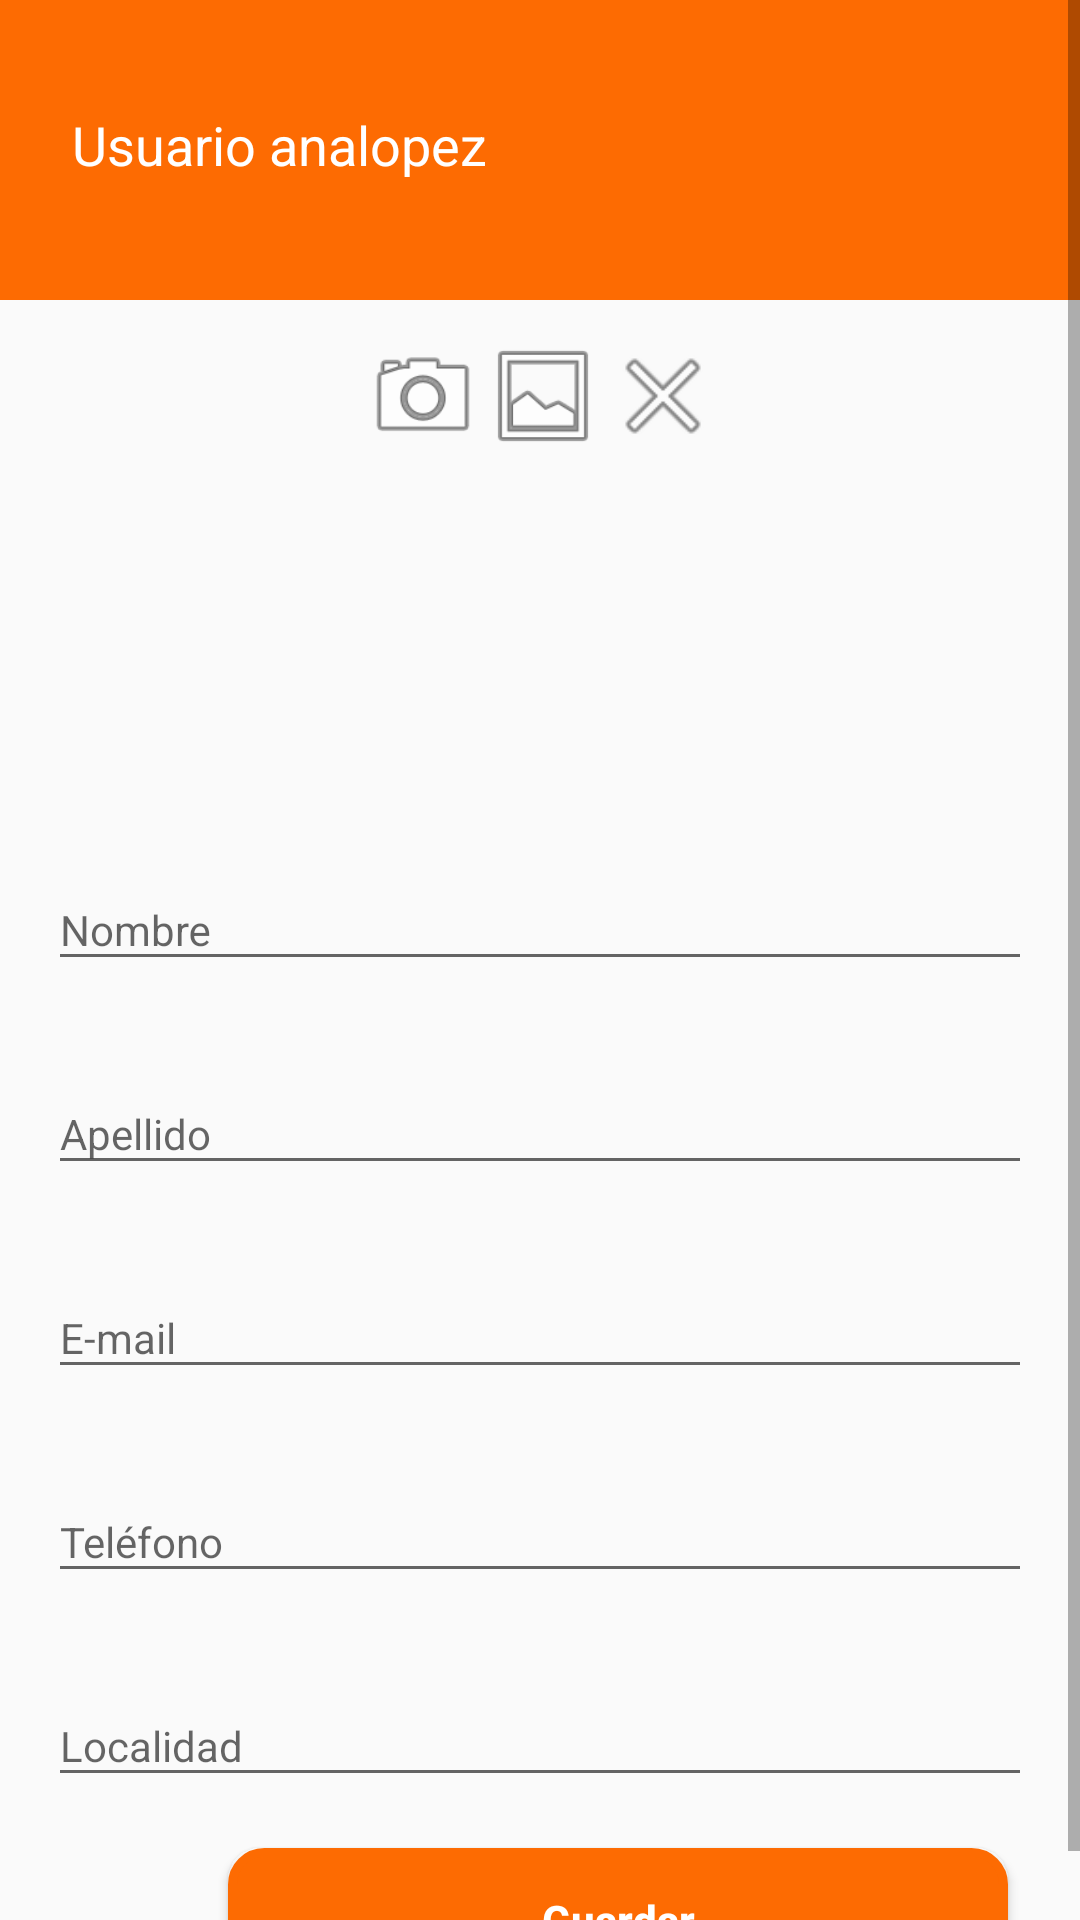

Screen size 1080 × 1920. Icon name, then its box in pixels as region(x1, y1, x2, y2):
Cámara: region(377, 357, 469, 431)
Eliminar foto: region(625, 358, 701, 434)
Galería: region(498, 351, 588, 441)
